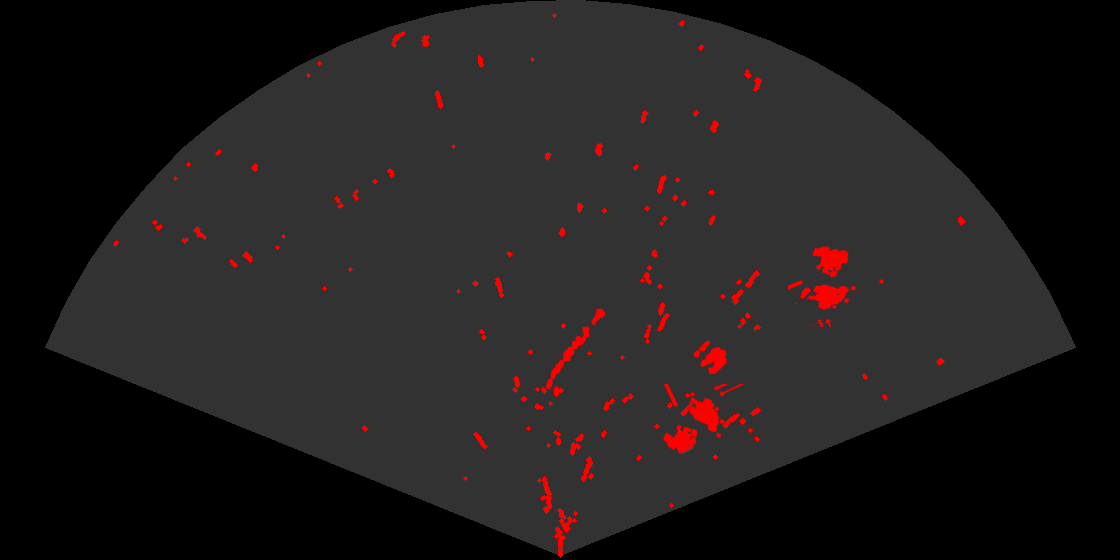ball: (692, 339, 729, 376)
cage: (662, 384, 745, 455), (788, 244, 858, 327)
chain: (544, 307, 607, 391)
